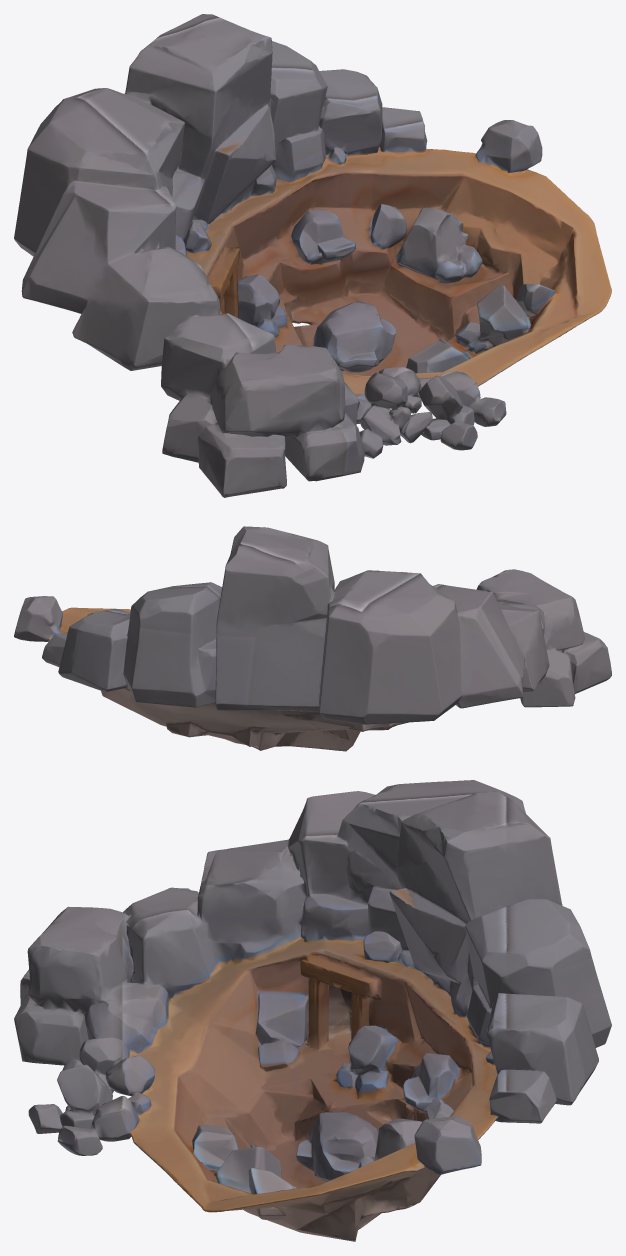
Rendered from rocky_cave_3d_model.fbx.
3 renders of one model, top to bottom at view 1: azimuth 30°, elevation 25°; view 2: azimuth 150°, elevation 25°; view 3: azimuth 270°, elevation 25°, orthographic. The views are drawn at different scales.
Parts seen in each view (by area): view 1: tripo_node_6694fd8c; view 2: tripo_node_6694fd8c; view 3: tripo_node_6694fd8c.
Part boxes in pixels (x1,y1,x2,y2): tripo_node_6694fd8c: (14,14,611,497); tripo_node_6694fd8c: (14,526,611,751); tripo_node_6694fd8c: (14,780,611,1241).
Bounding box in the file's own units: 0.9792 × 0.5271 × 0.8611.
